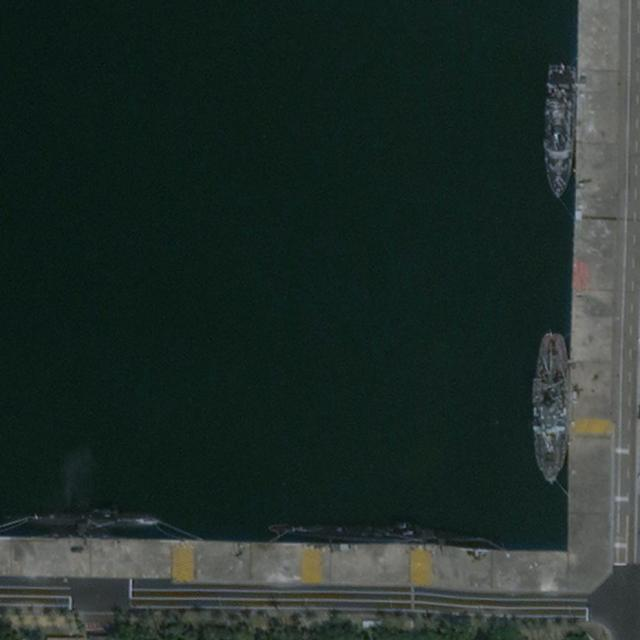Other Ship: (533, 332, 569, 484), (543, 65, 575, 197)
Submarine: (268, 518, 480, 544), (24, 513, 158, 527)
